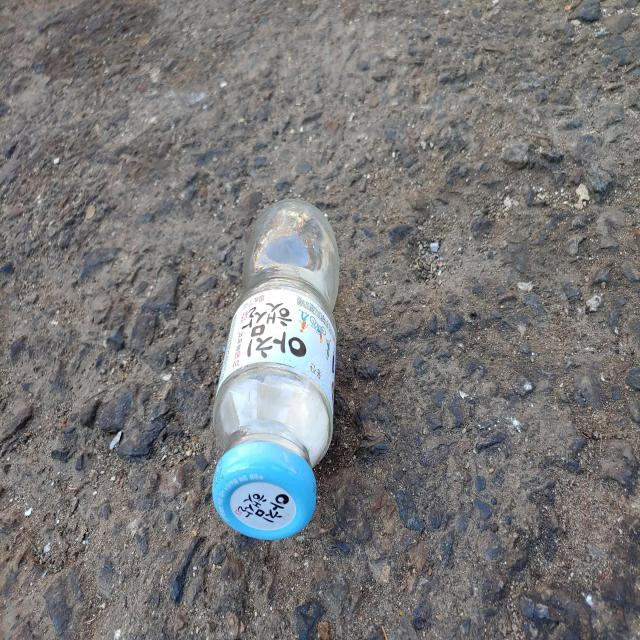glass: (212, 199, 339, 540)
